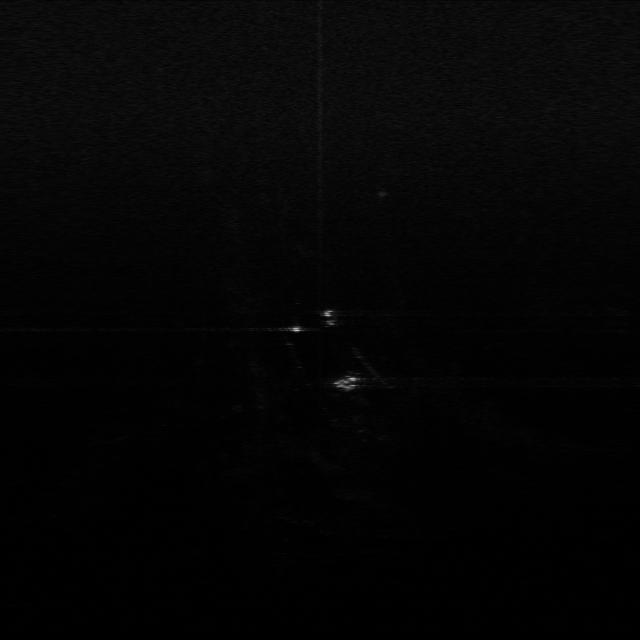rov: (330, 370, 364, 395)
